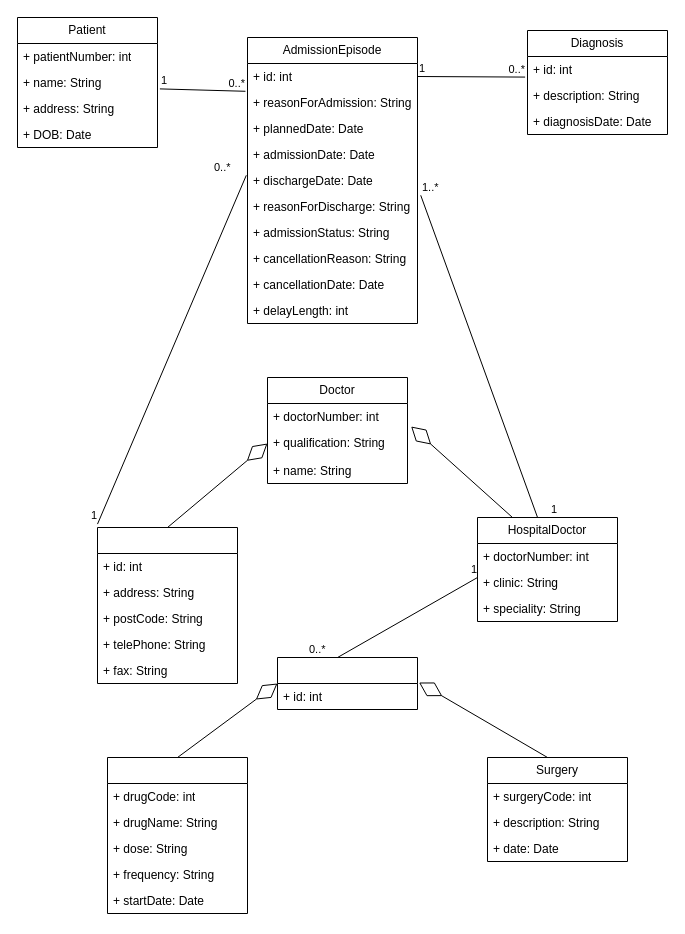
Image size: 685x934. Some labels were removed from this diagram. The box of each missing label's shape, as (x1, y1, x2, y2) in pixels:
CommunityDoctor: (96, 526, 238, 684)
Medication: (106, 756, 248, 914)
Treatment: (276, 656, 418, 710)
